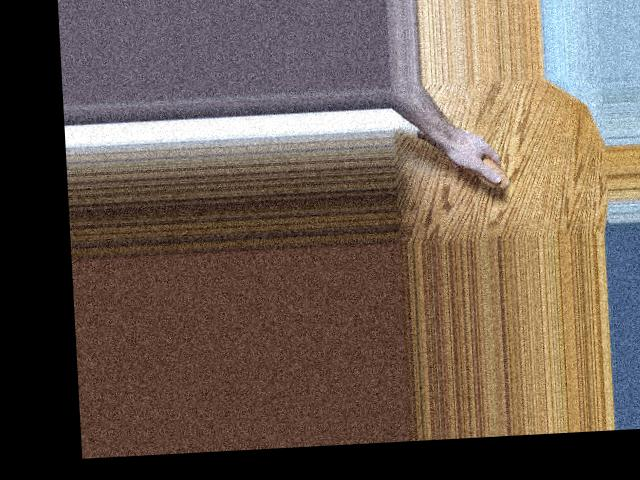sweet_potato: (413, 124, 510, 193)
